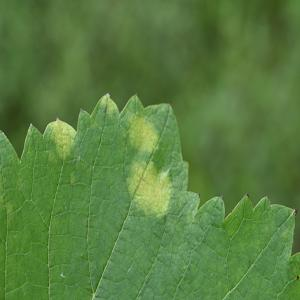Folha: (0, 91, 299, 300)
Fungo: (127, 156, 173, 218), (123, 112, 163, 155), (43, 116, 77, 162), (100, 90, 120, 116)
